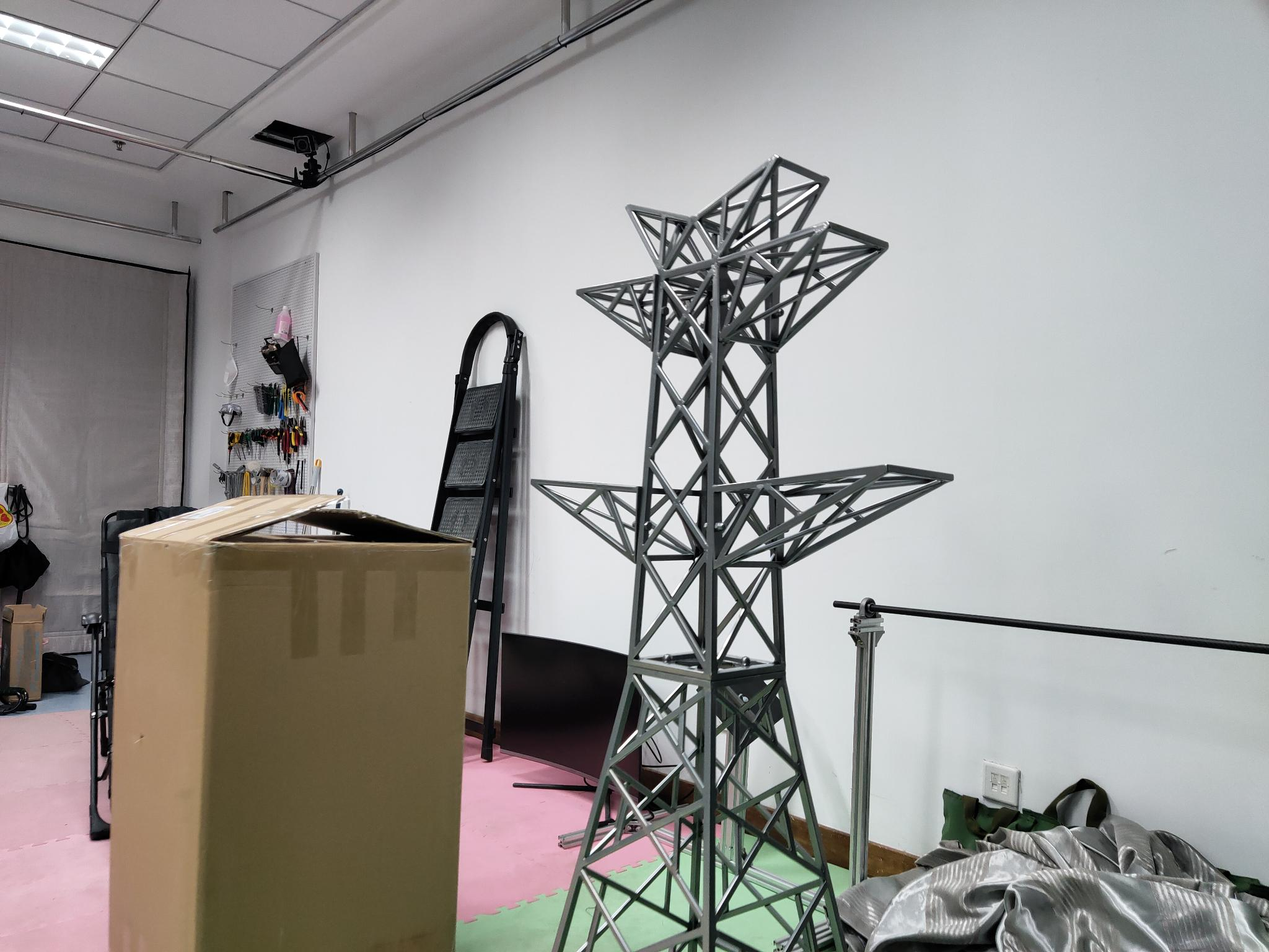tower: (527, 152, 957, 952)
